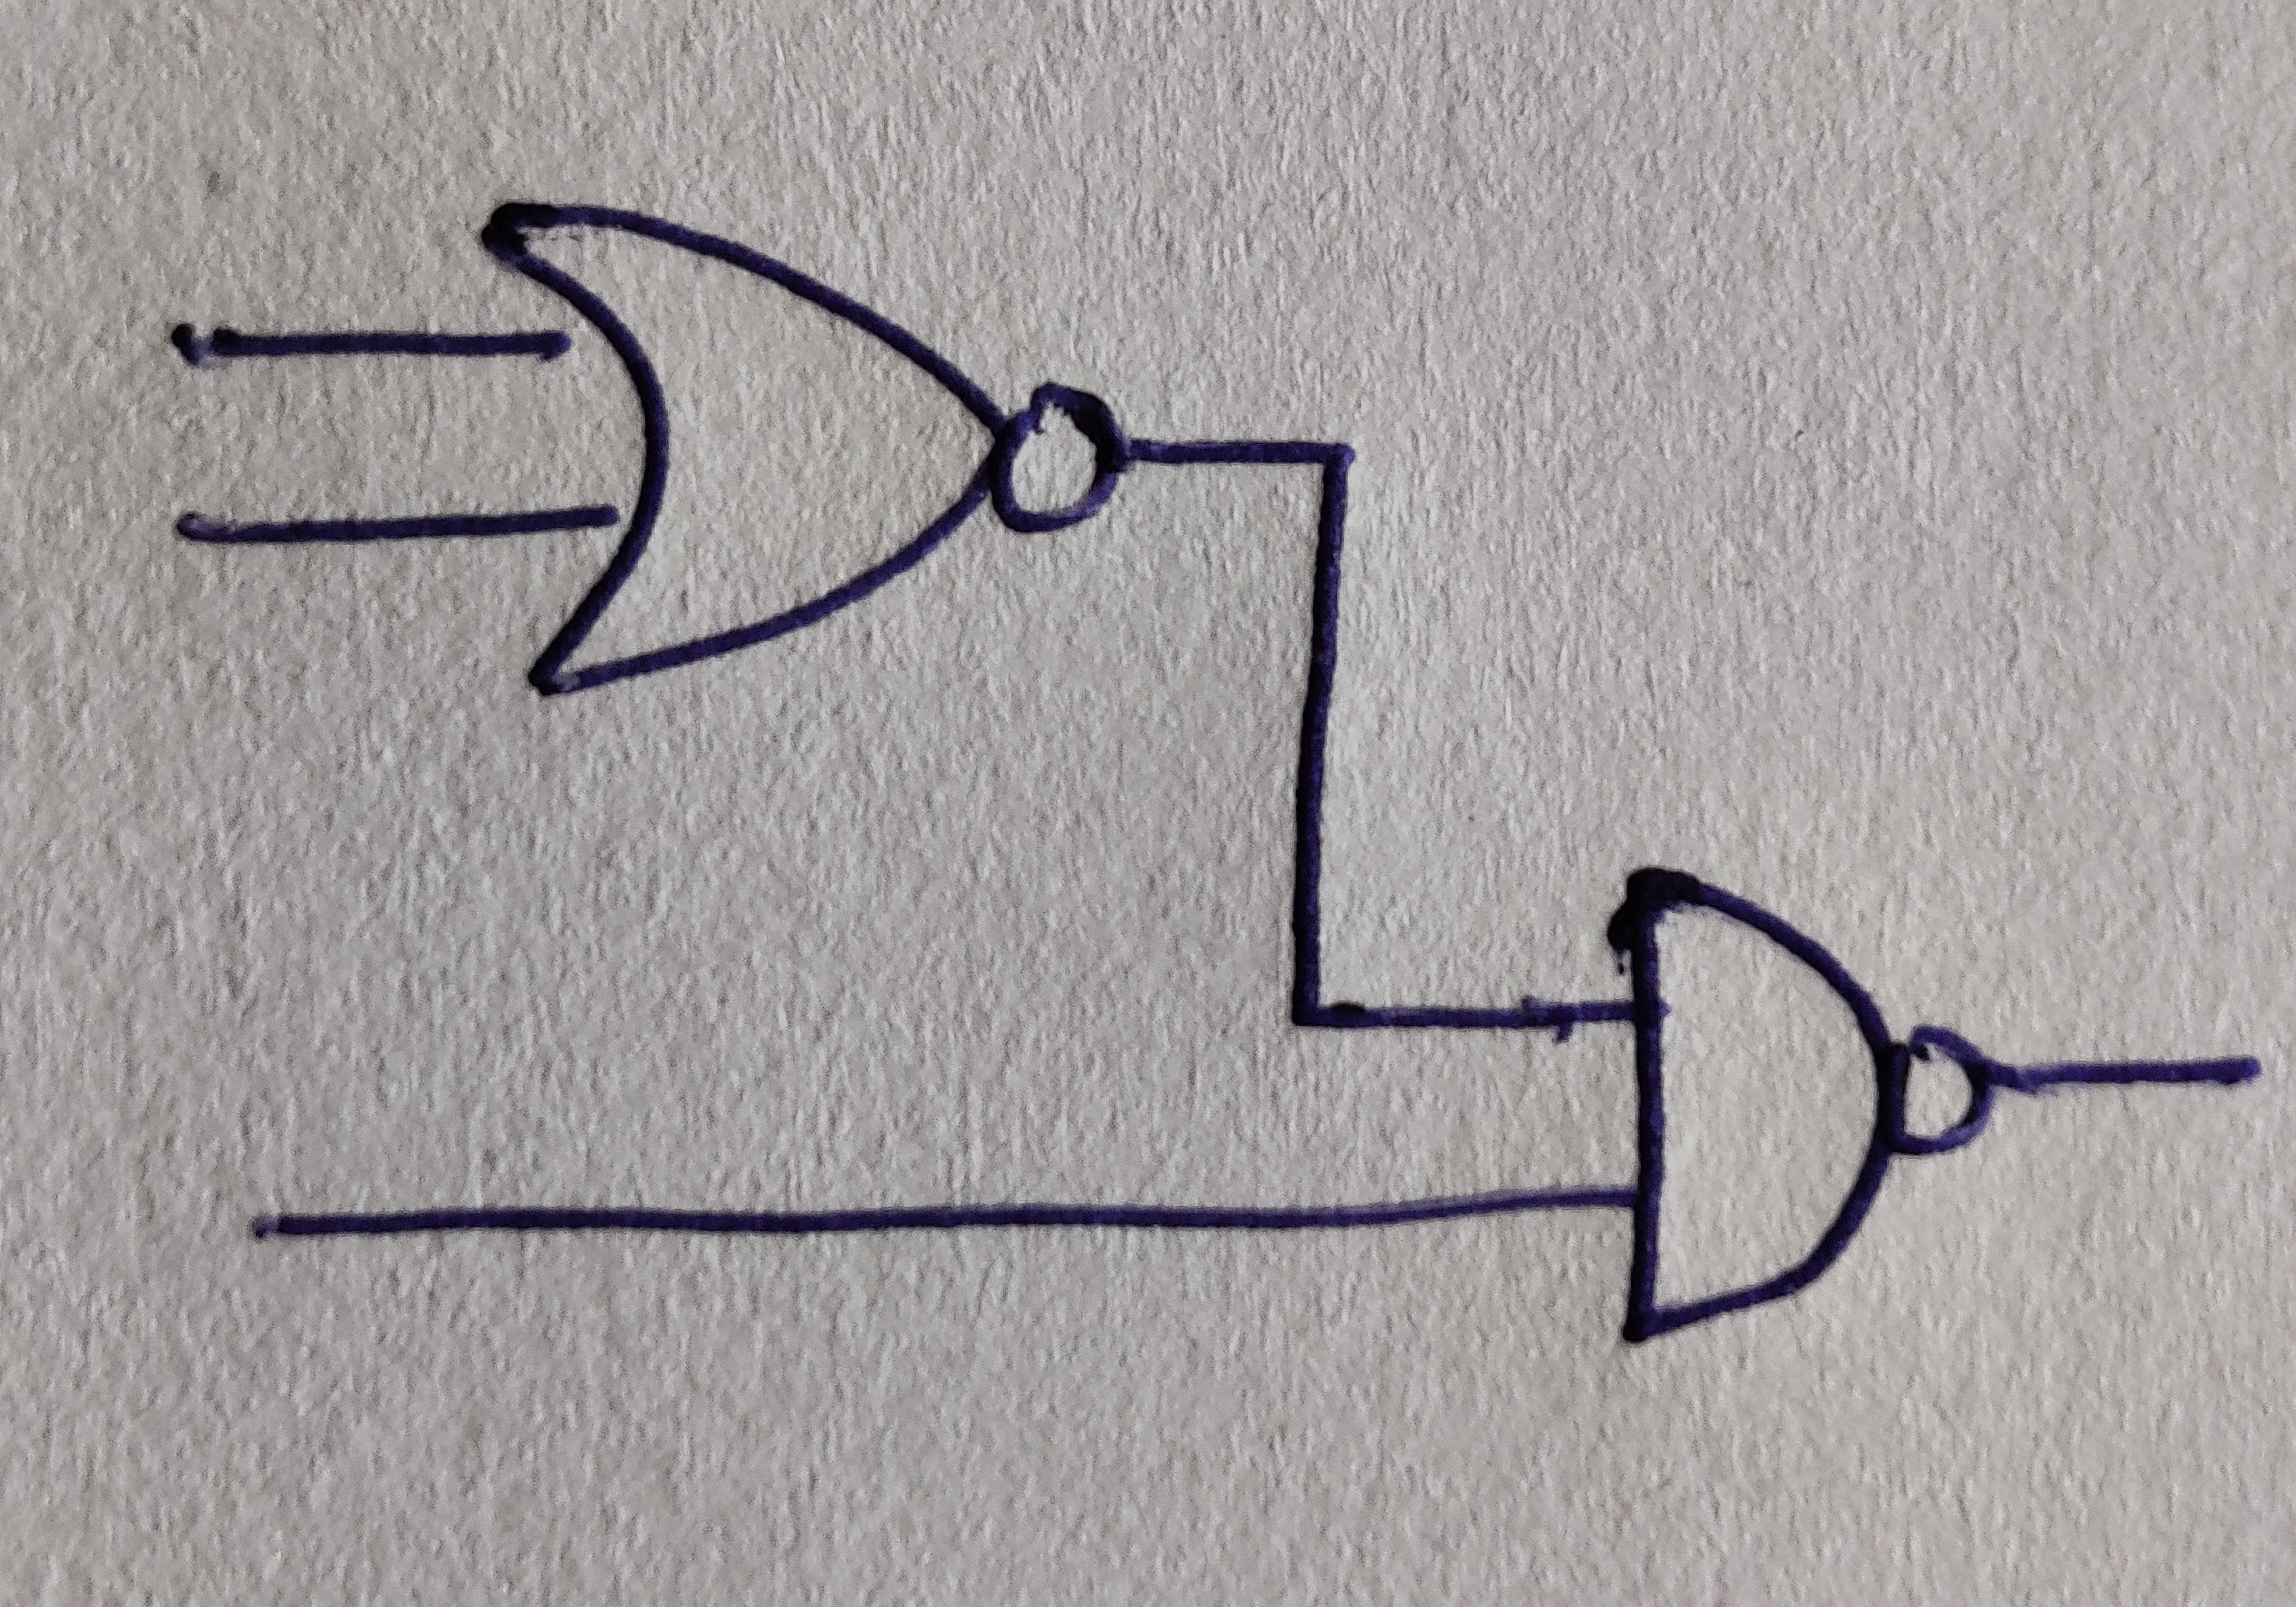and: (1609, 869, 1896, 1342)
not: (989, 380, 1120, 536), (1888, 1024, 1994, 1153)
or: (482, 202, 1019, 696)
